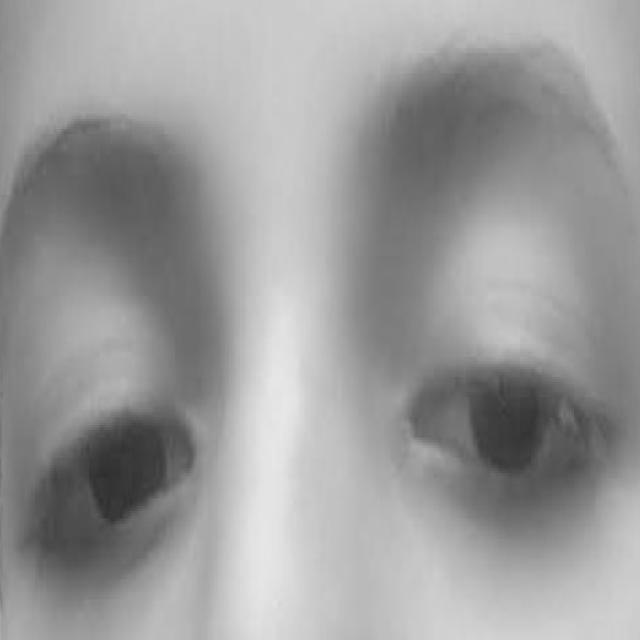real: (8, 185, 627, 598)
